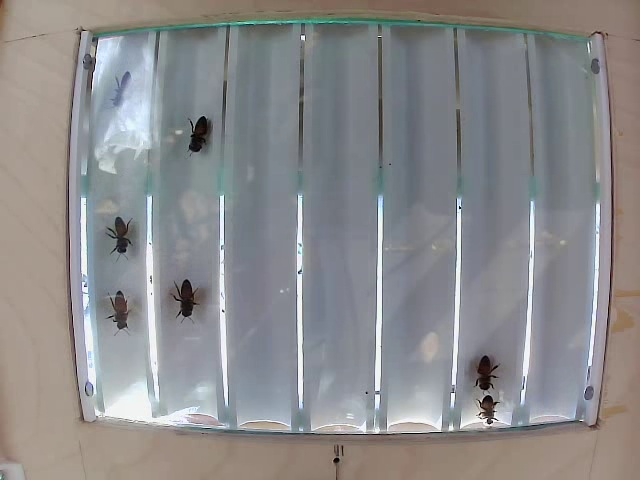bee: (168, 272, 208, 328), (100, 209, 139, 257), (101, 290, 140, 337), (466, 344, 506, 389), (180, 119, 221, 157), (474, 389, 509, 432), (110, 74, 146, 113)
